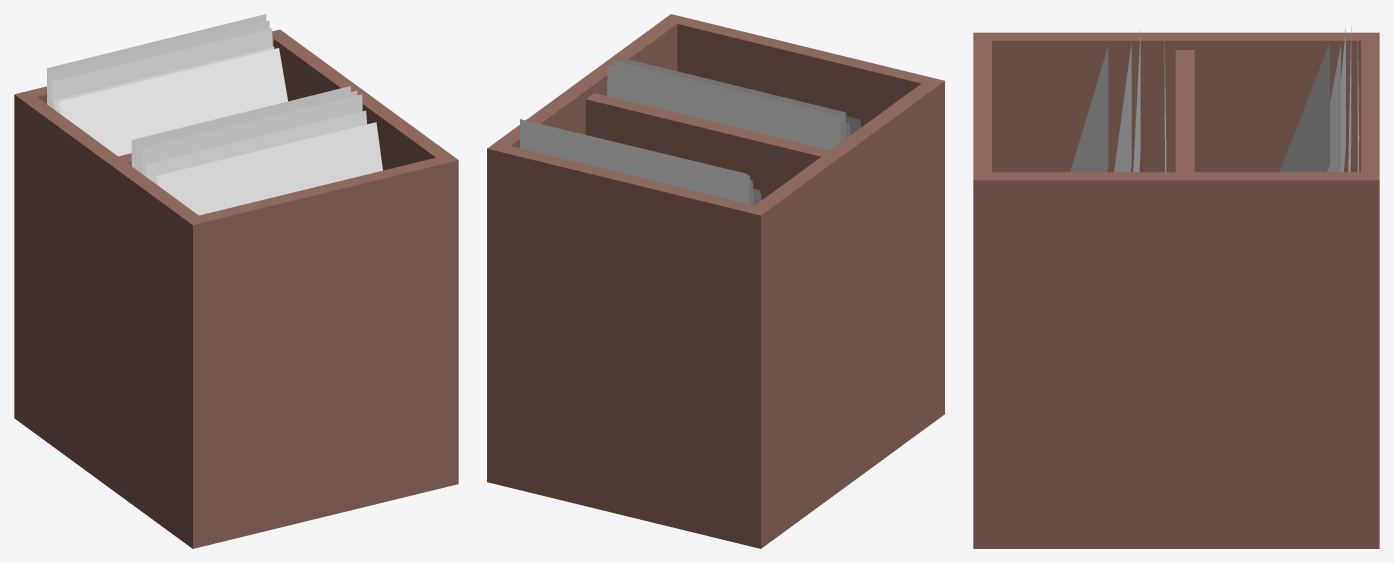
3 renders of one model, left to right at view 1: azimuth 30°, elevation 25°; view 2: azimuth 150°, elevation 25°; view 3: azimuth 270°, elevation 25°, orthographic. The views are drawn at different scales.
Parts seen in each view (by area): view 1: box_001; view 2: box_001; view 3: box_001.
Part boxes in pixels (<box>): box_001: <box>14,14,458,548</box>; box_001: <box>487,14,944,548</box>; box_001: <box>973,26,1379,548</box>.
Size of the model in its own units: 0.2624 by 0.3314 by 0.3053.
Materials: 1 (1 with a texture image).
